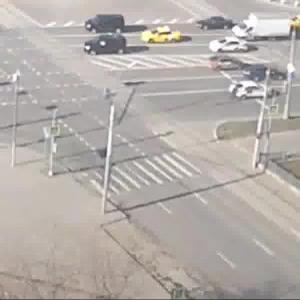car: (244, 17, 300, 43), (79, 32, 129, 55), (87, 11, 131, 35), (239, 66, 289, 86), (138, 28, 185, 48), (191, 17, 239, 36), (213, 55, 255, 70), (230, 81, 269, 96), (208, 39, 248, 53)
